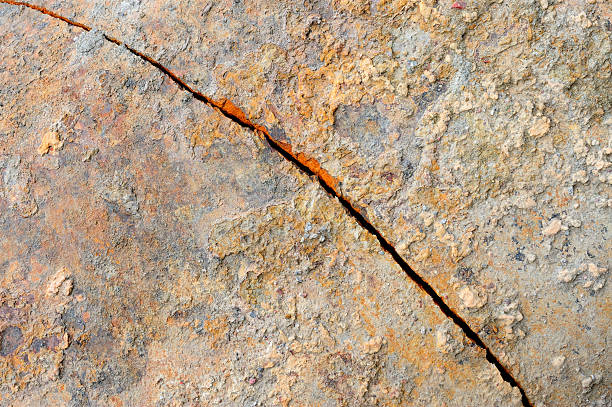crack: (36, 4, 541, 407)
